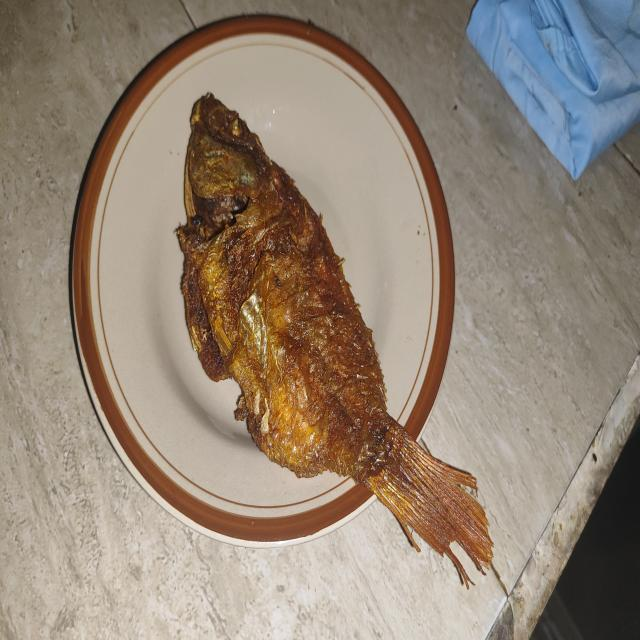ikan_mujair: (176, 93, 493, 588)
